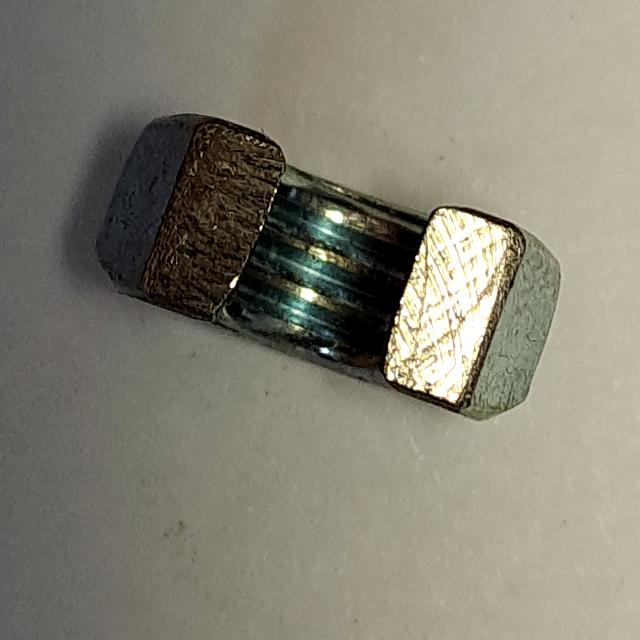Side-Fracture: (79, 98, 574, 442)
